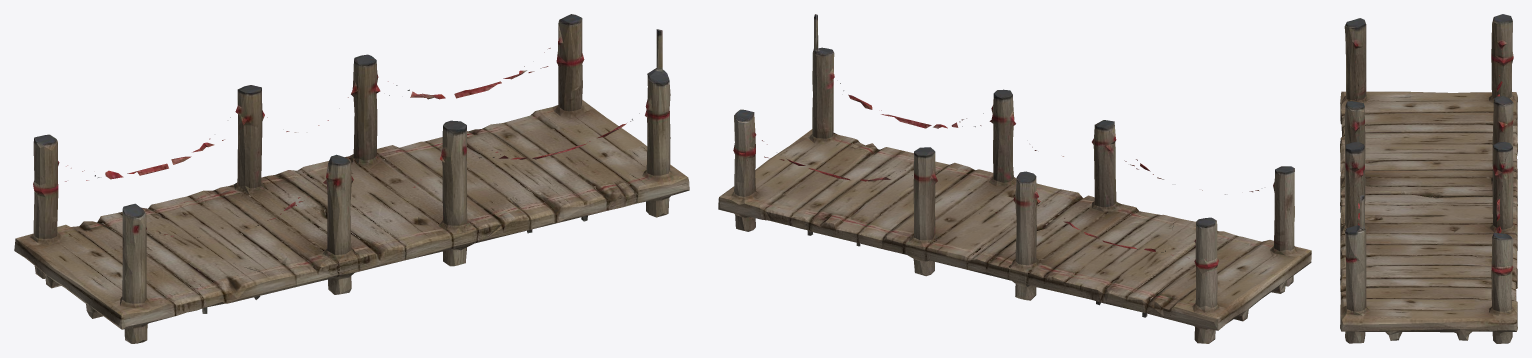
File: pier_rope_rails_lod0.glb
3 views of the same model, side by side, from view 1: azimuth 30°, elevation 25°; view 2: azimuth 150°, elevation 25°; view 3: azimuth 270°, elevation 25° (orthographic). The views are drawn at different scales.
Visible parts, largest first — view 1: pier_rope_rails_lod0; view 2: pier_rope_rails_lod0; view 3: pier_rope_rails_lod0.
Boxes of the visible parts, x1,y1,x2,y2 form: pier_rope_rails_lod0: [14, 14, 689, 343]; pier_rope_rails_lod0: [718, 14, 1311, 343]; pier_rope_rails_lod0: [1340, 14, 1517, 343].
Size of the model in its own units: 6 by 1.8 by 1.96.
Materials: 1 (1 with a texture image).
